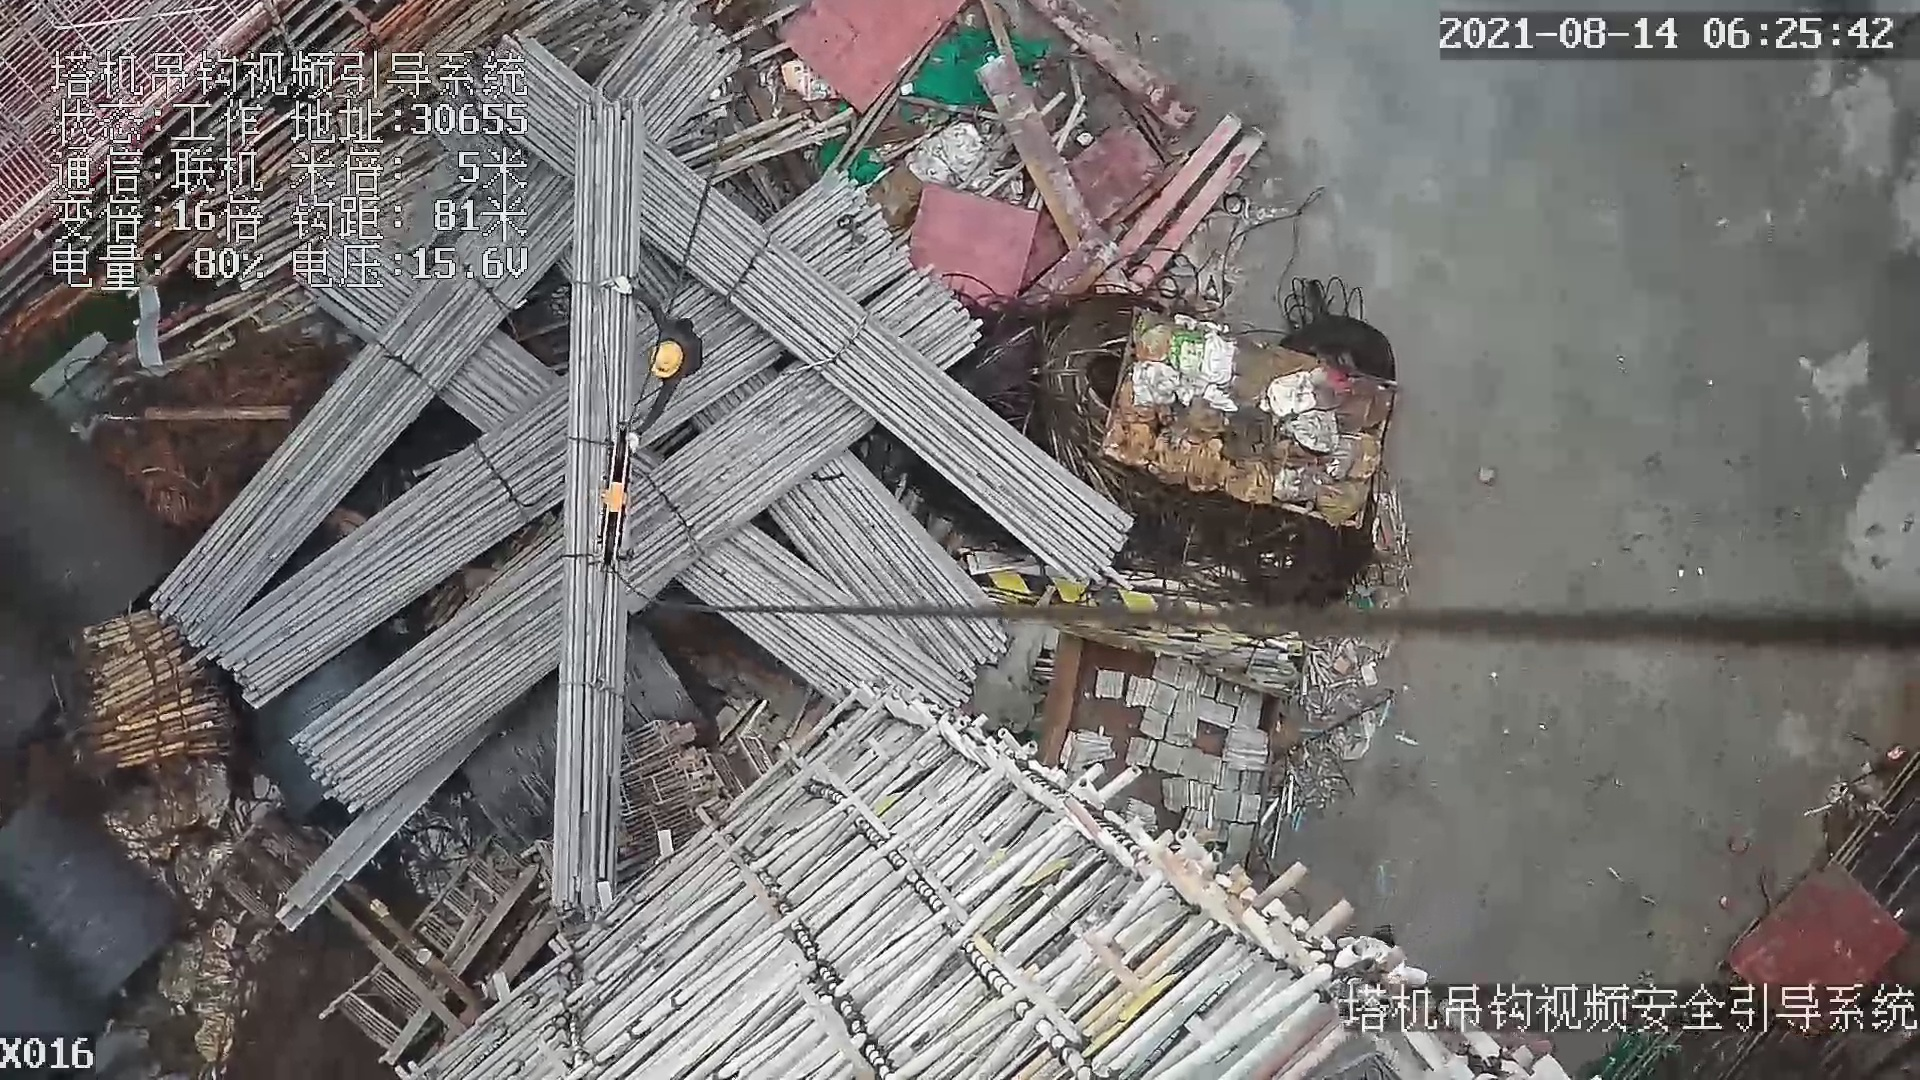helmet: (645, 323, 682, 383)
hook: (594, 421, 641, 574)
person: (609, 273, 714, 453)
